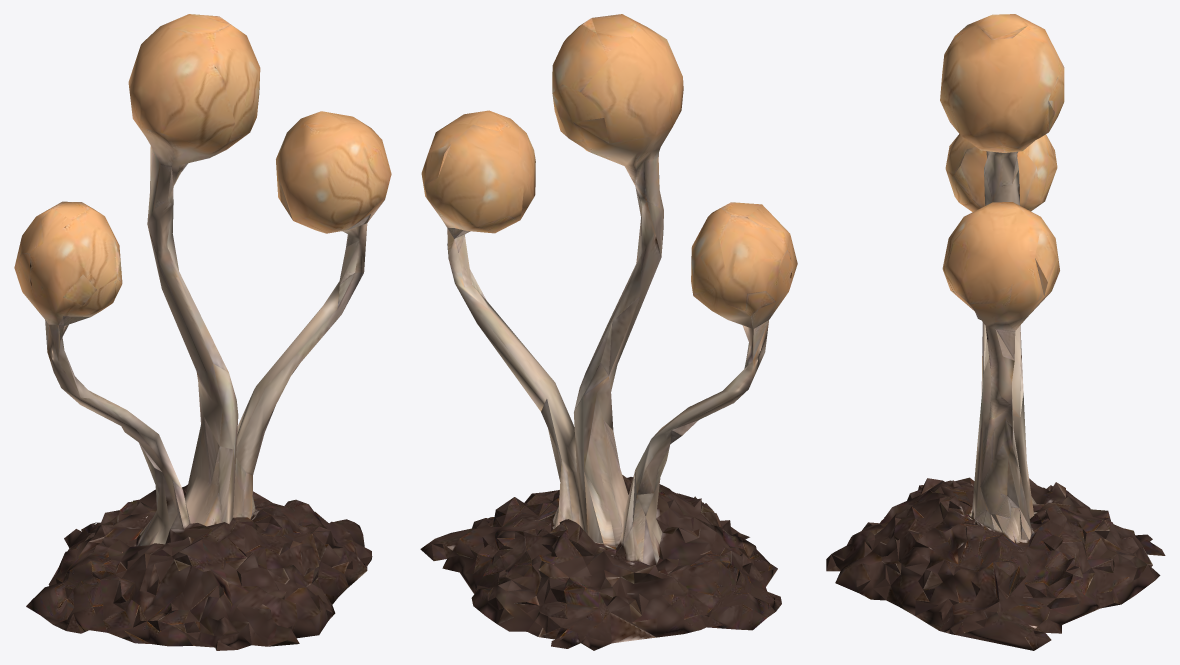
File: isiksapi.glb
3 views of the same model, side by side, from view 1: azimuth 30°, elevation 25°; view 2: azimuth 150°, elevation 25°; view 3: azimuth 270°, elevation 25° (orthographic). The views are drawn at different scales.
Visible parts, largest first — view 1: prop; view 2: prop; view 3: prop.
Part boxes in pixels (left/top/right/bottom): prop: left=14, top=14, right=391, bottom=650; prop: left=420, top=14, right=797, bottom=650; prop: left=826, top=14, right=1165, bottom=650.
Size of the model in its own units: 1.27 by 1.9 by 1.07.
1 material, 1 textured.
